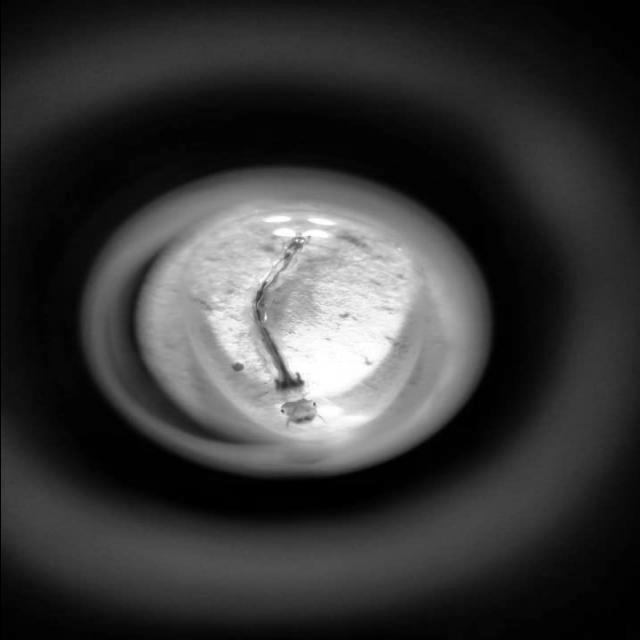larvas: (260, 227, 313, 430)
